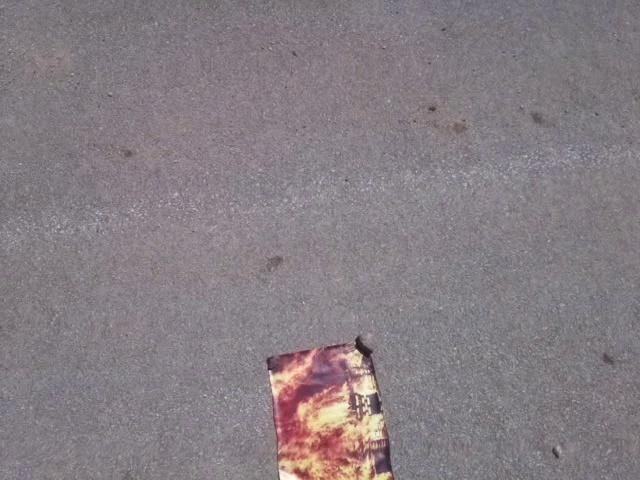fire-poster: (264, 335, 397, 479)
